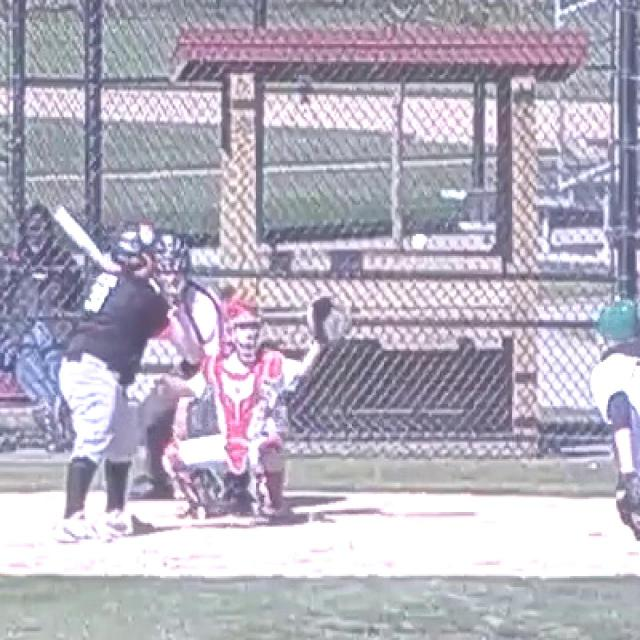baseball: (412, 234, 427, 250)
